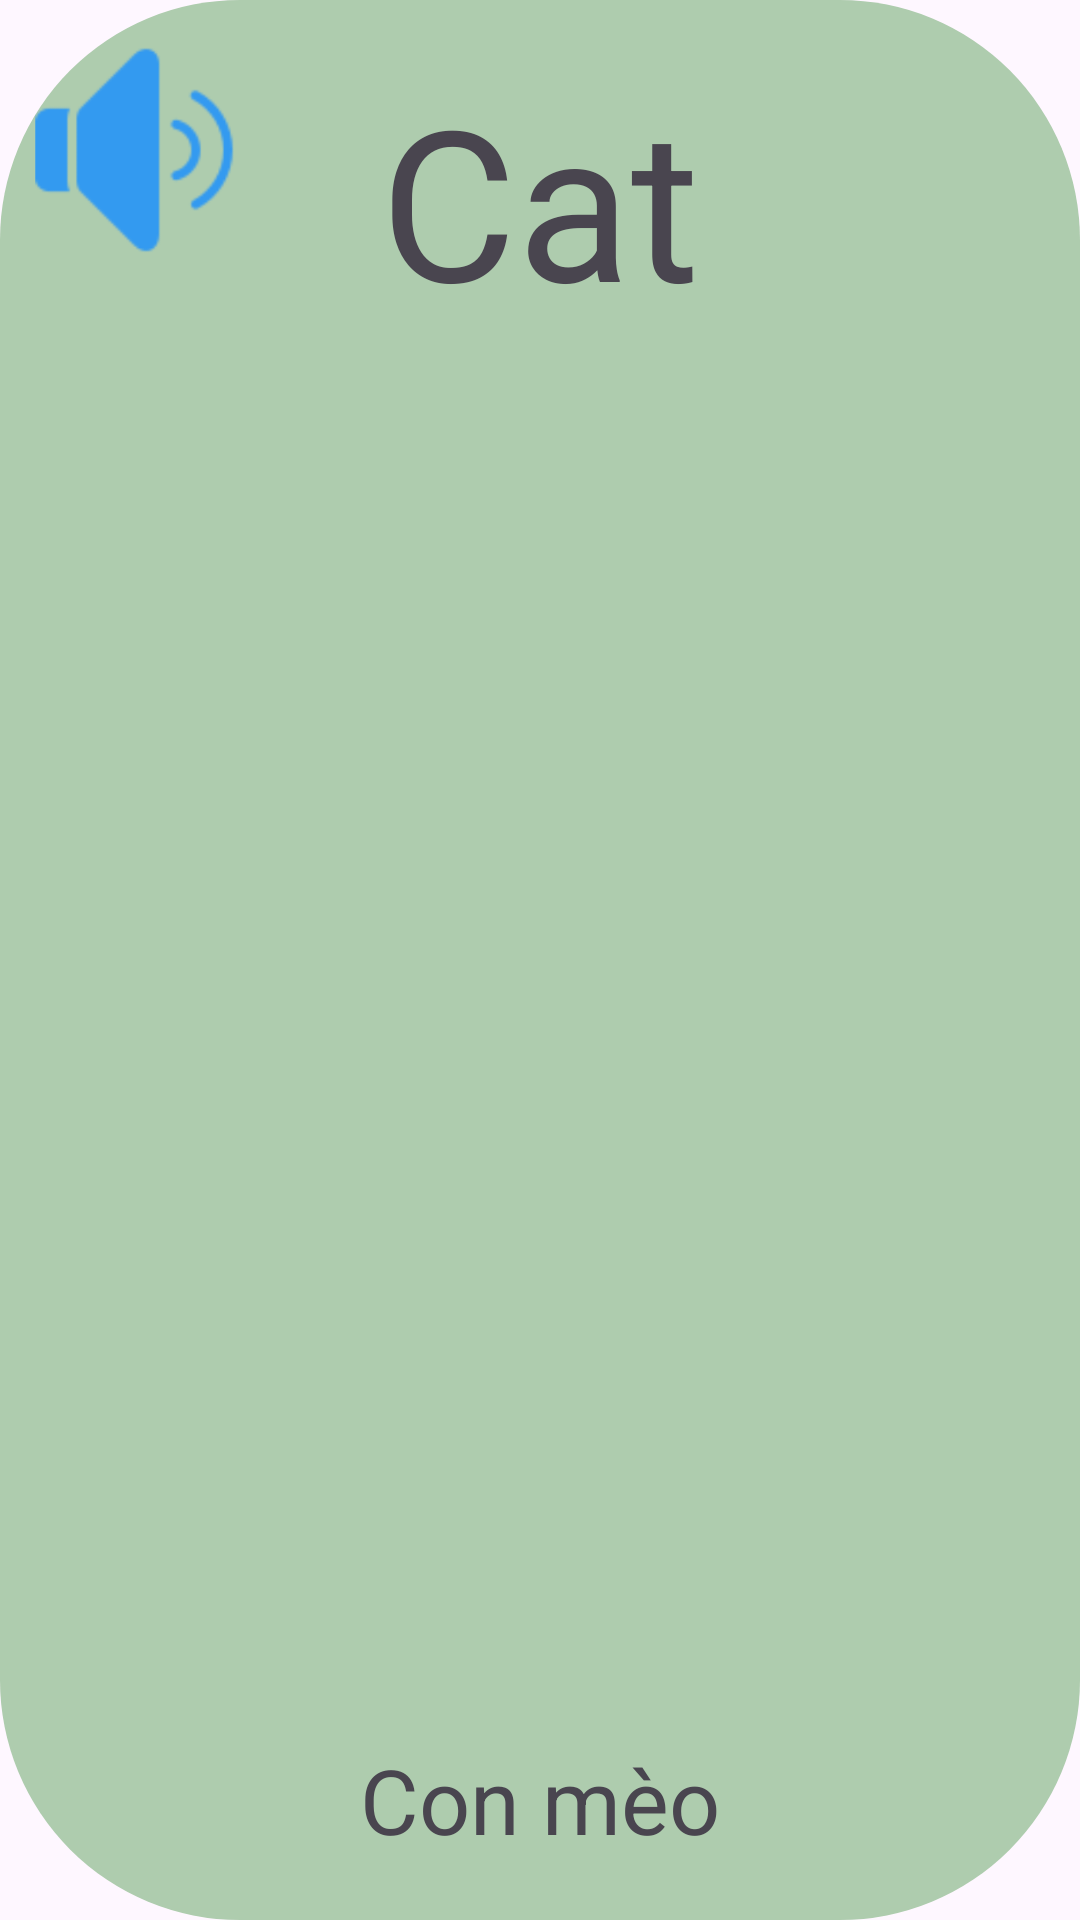

Locate icon controls on the screen. Image size 1080×1920, boxes as (x1, y1, x2, y2).
exam part volume: (0, 0, 233, 252)
